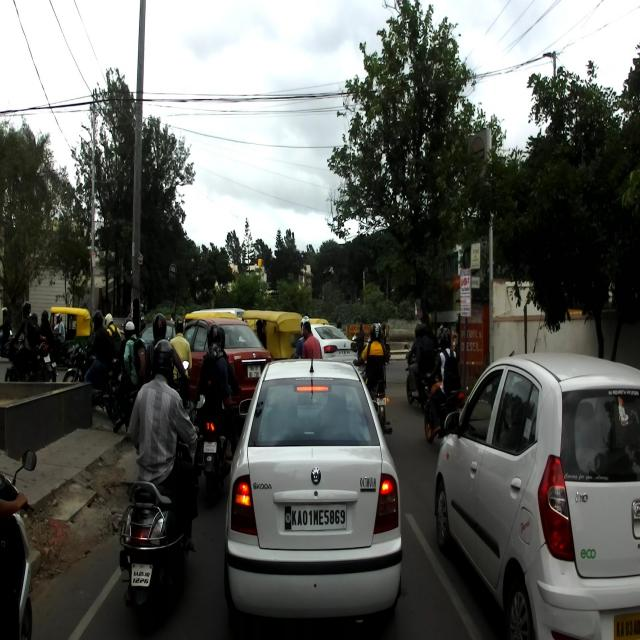car: (432, 306, 639, 638), (224, 348, 403, 638), (179, 318, 274, 417)
motorcycle: (198, 386, 242, 502), (62, 341, 115, 416), (421, 369, 466, 443), (353, 360, 393, 437), (107, 354, 145, 432), (2, 335, 52, 387), (404, 342, 432, 412)
scooter: (117, 391, 207, 626)
